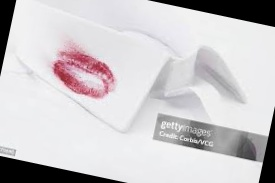lipstick: (44, 38, 120, 107)
